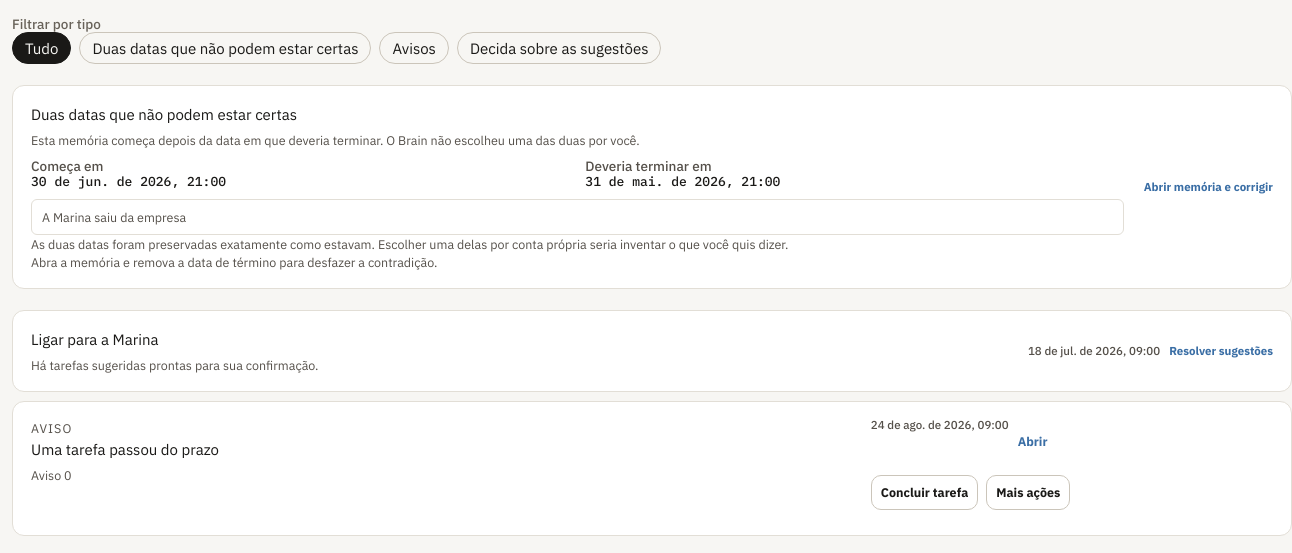
Test case: clause 1 and 2: notices appear under Todos, and under a filter of their own › offers an `Avisos` chip that shows the notices and nothing else
Click the button "Avisos": x=414, y=48 [380,32,449,64]
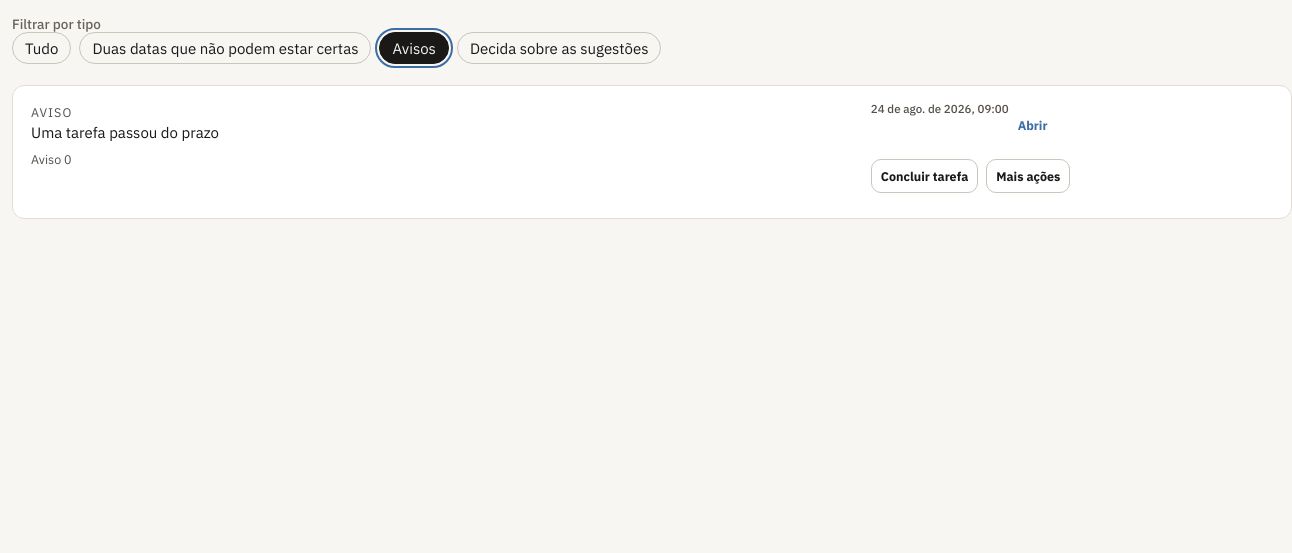
Result: the link "Ligar para a Marina" is gone
Result: the link "A Marina saiu da empresa" is gone
